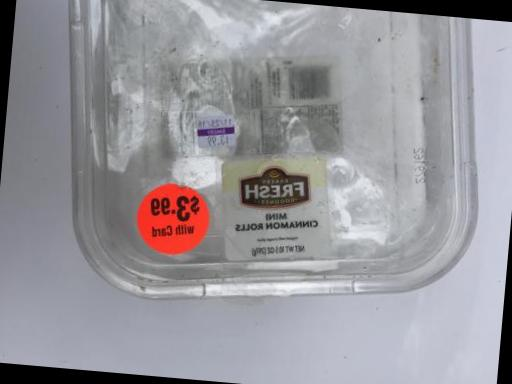plastic: (1, 0, 511, 368)
